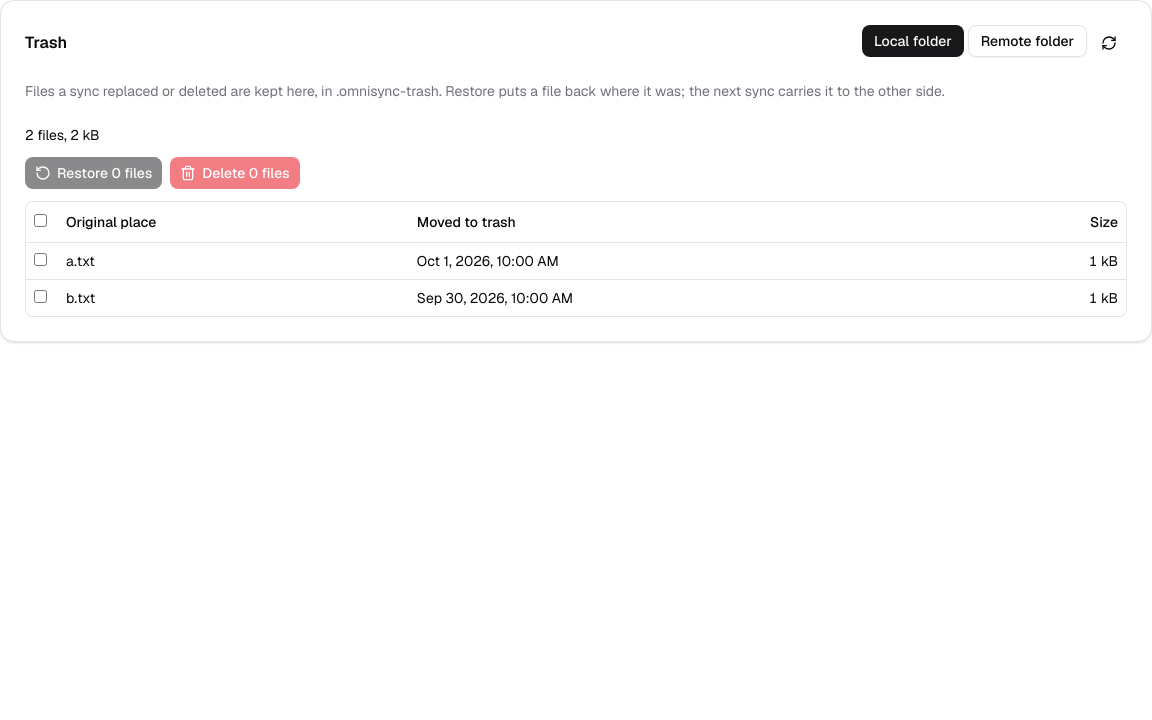
Test: TrashPanel delete › closing the confirmation with Escape deletes nothing
Click the checkbox named "Select all" at (40, 220), box [34, 214, 47, 227]
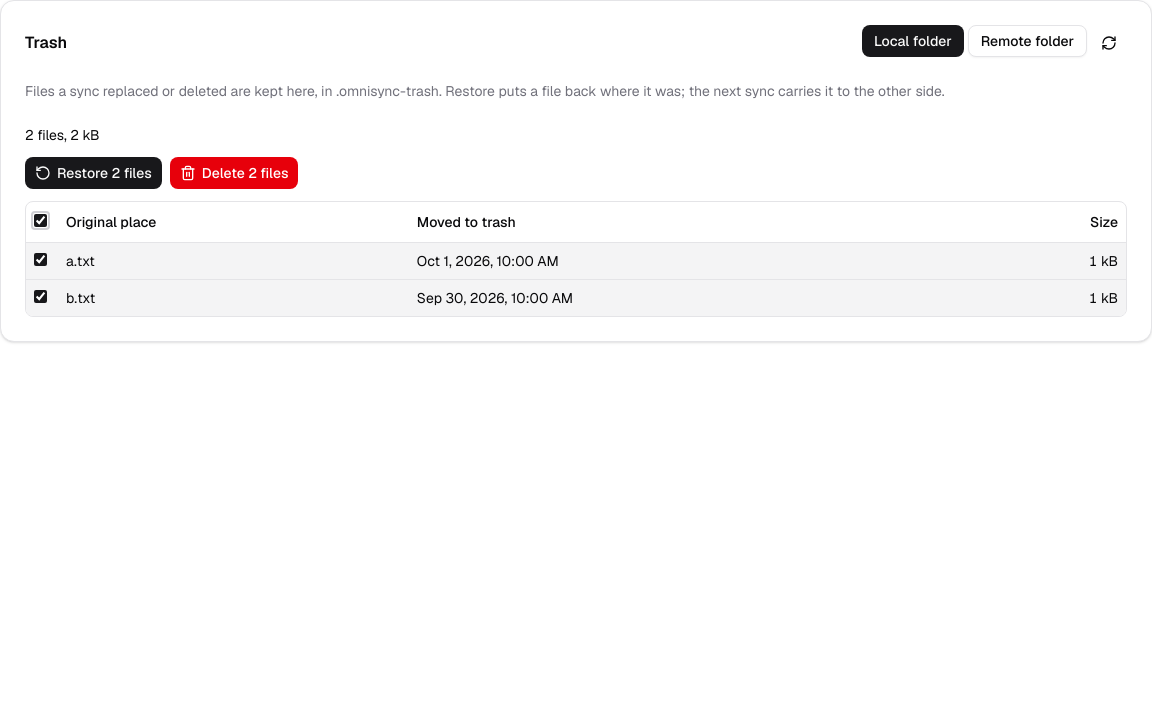
Click the button "Delete 2 files" at (234, 173), box [170, 157, 298, 189]
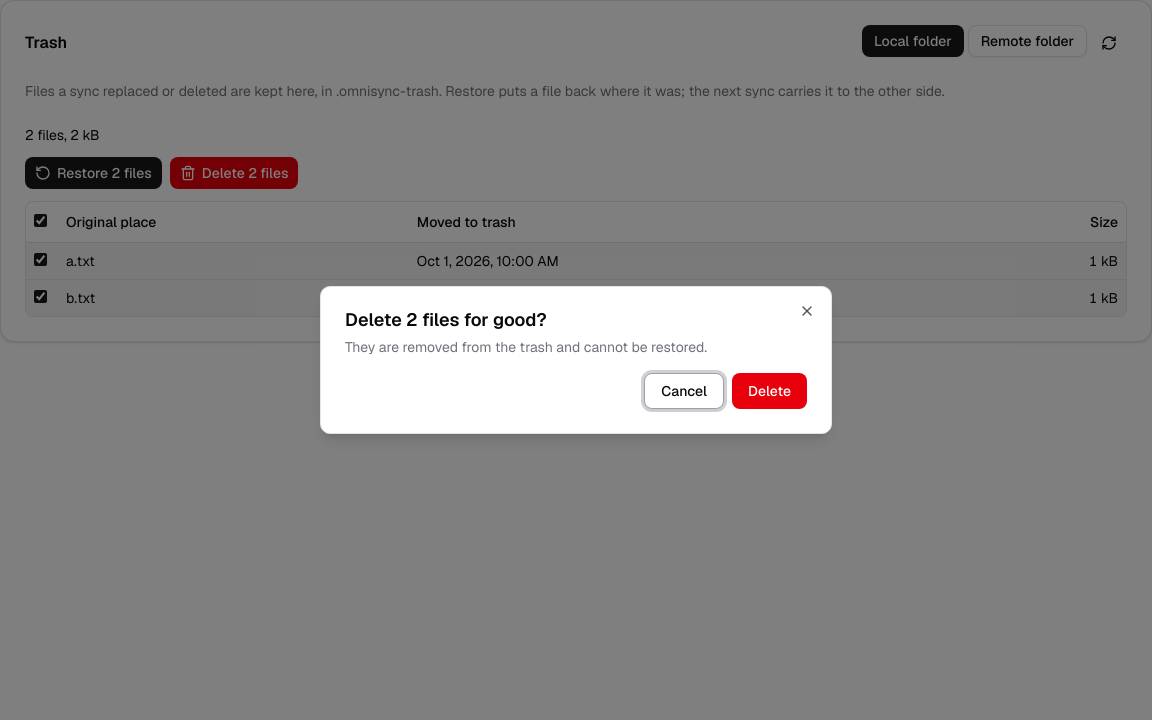
Check: the dialog "Delete 2 files for good?" is shown, box [320, 286, 832, 434]
Press Escape
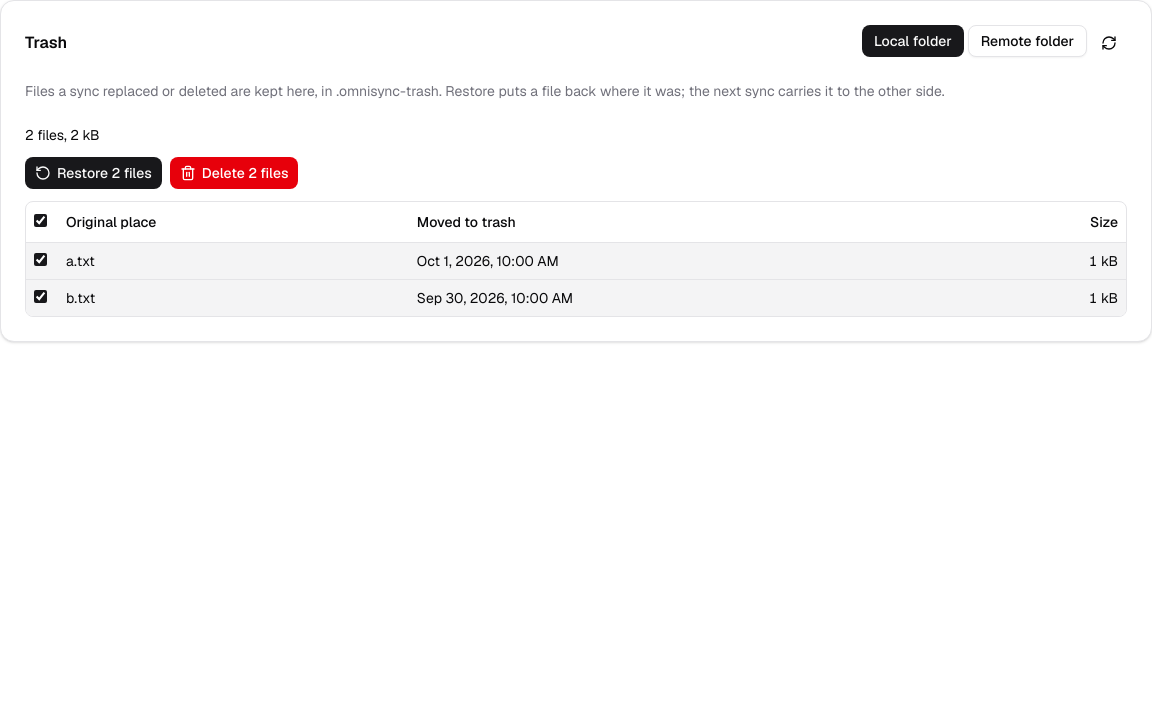
Check: the dialog is gone
